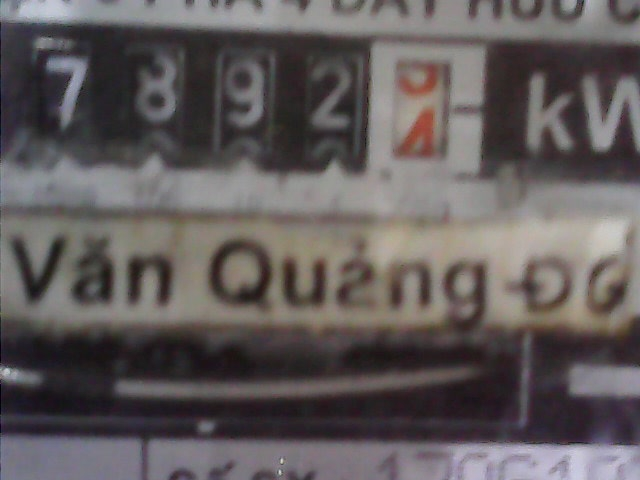phy_plate: (15, 18, 495, 176)
